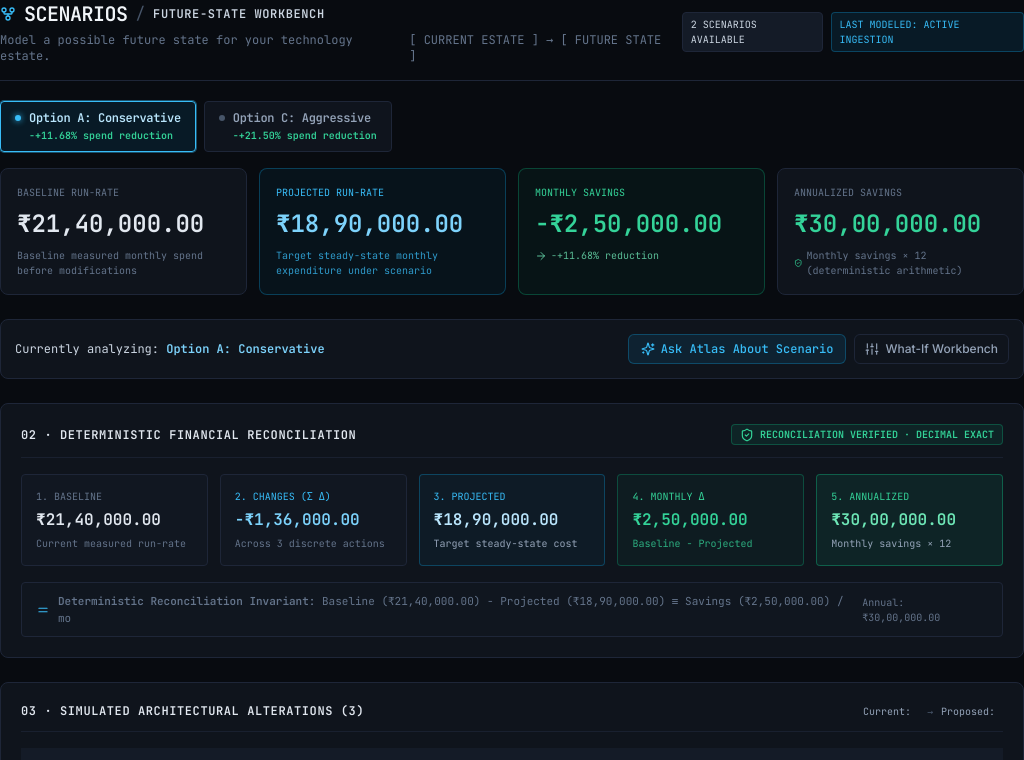
Test: Milestone 7: Scenarios & Future-State Topology Workbench › allows what-if simulation via SIMULATE PROJECTION with non-destructive constraint validation
The width and height of the screenshot is (1024, 760).
Open What-If workbench
Click the button "What-If Workbench". click: [932, 349]
box: [854,334,1009,364]
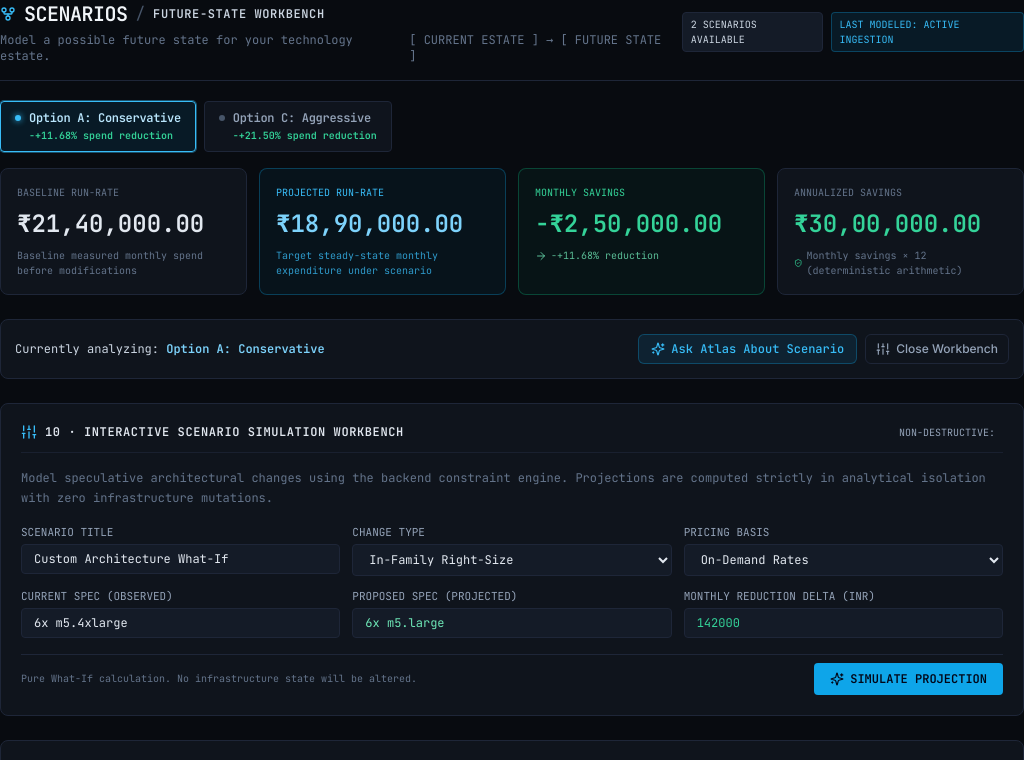
Result: the heading "10 · Interactive Scenario Simulation Workbench" is shown at [45,424,404,440]
Result: the button "SIMULATE PROJECTION" is shown
Click the button "SIMULATE PROJECTION". click: [909, 679]
box: [814,663,1003,695]
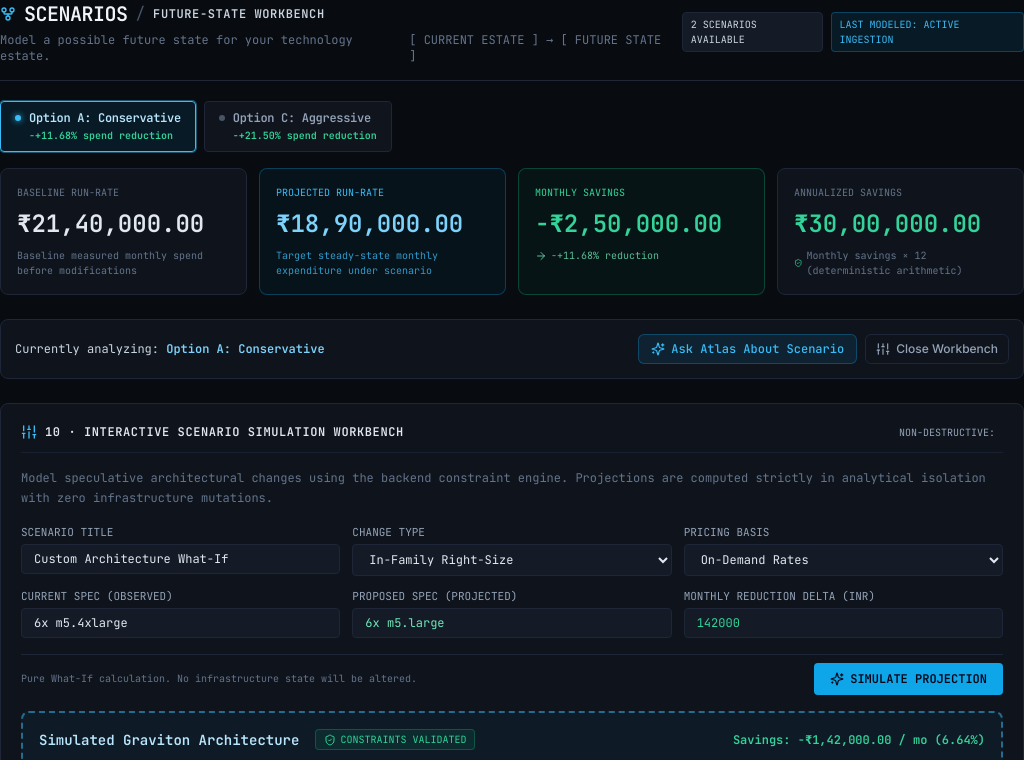
Result: the text "Simulated Graviton Architecture" is shown at [39,730,299,750]
Result: the text "CONSTRAINTS VALIDATED" is shown at [340,732,466,747]
